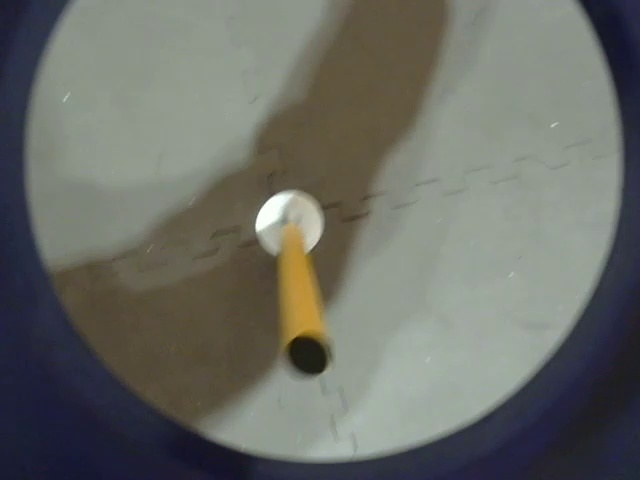tip: (278, 318, 336, 385)
